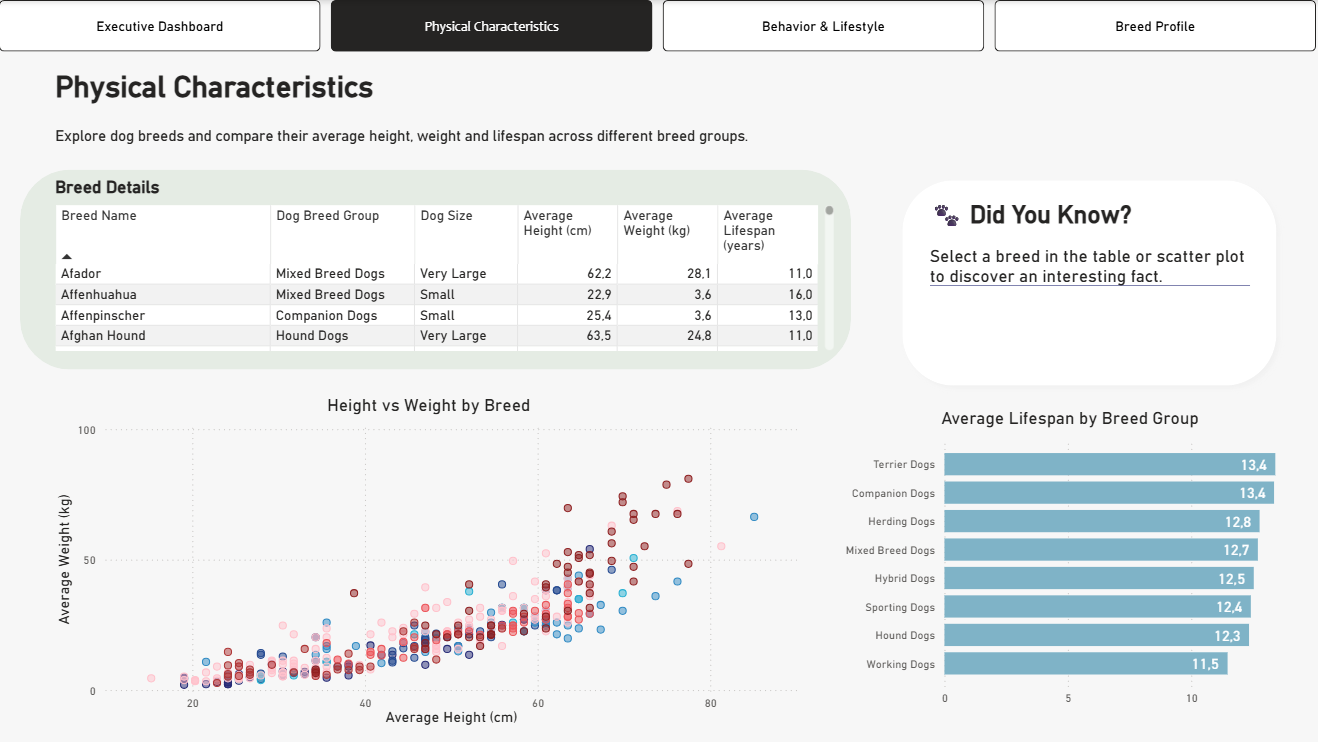

The page's visual inventory and layout, read from the dashboard file:
{"tool":"powerbi","page":{"name":"Physical Characteristics","canvas":[1280,720],"ordinal":1},"visuals":[{"type":"shape","box":[867.2,165.5,381,217.2],"z":0},{"type":"shape","box":[21,165.2,806.4,194.3],"z":1000},{"type":"scatterChart","title":"Height vs Weight by Breed","fields":{"X":["Metriky.Average Height (cm)"],"Y":["Metriky.Average Weight (kg)"],"Category":["Dogs.Breed Name"],"Series":["Breed Groups.Dog Breed Group"]},"box":[50.2,382.1,735.1,325.5],"z":2000},{"type":"clusteredBarChart","title":"Average Lifespan by Breed Group","fields":{"Category":["Breed Groups.Dog Breed Group"],"Y":["Metriky.Average Lifespan (years)"]},"box":[815.5,396.6,448.3,294.8],"z":3000},{"type":"tableEx","title":"Breed Details","fields":{"Values":["Dogs.Breed Name","Breed Groups.Dog Breed Group","Dog Sizes.Dog Size","Metriky.Average Height (cm)","Metriky.Average Weight (kg)","Metriky.Average Lifespan (years)"]},"box":[50.2,171.6,765.9,173.3],"z":4000},{"type":"pageNavigator","box":[0,0,1280.8,50.2],"z":5000},{"type":"textbox","box":[50.2,63.1,555.4,79.3],"z":6000},{"type":"textbox","box":[50.2,118.2,1135.1,47],"z":7000},{"type":"textbox","box":[898.3,184.5,320.7,160.3],"z":8000}]}

Visuals, with their boxes in screenshot pixels (x1, y1, x2, y2), scaled from the page's 1280x720 canvas onto the 1318x742 screenshot:
shape: locate(893, 171, 1285, 394)
shape: locate(22, 170, 852, 370)
"Height vs Weight by Breed" scatterChart: locate(52, 394, 809, 729)
"Average Lifespan by Breed Group" clusteredBarChart: locate(840, 409, 1301, 713)
"Breed Details" tableEx: locate(52, 177, 840, 355)
pageNavigator: locate(0, 0, 1317, 52)
textbox: locate(52, 65, 624, 147)
textbox: locate(52, 122, 1220, 170)
textbox: locate(925, 190, 1255, 355)
